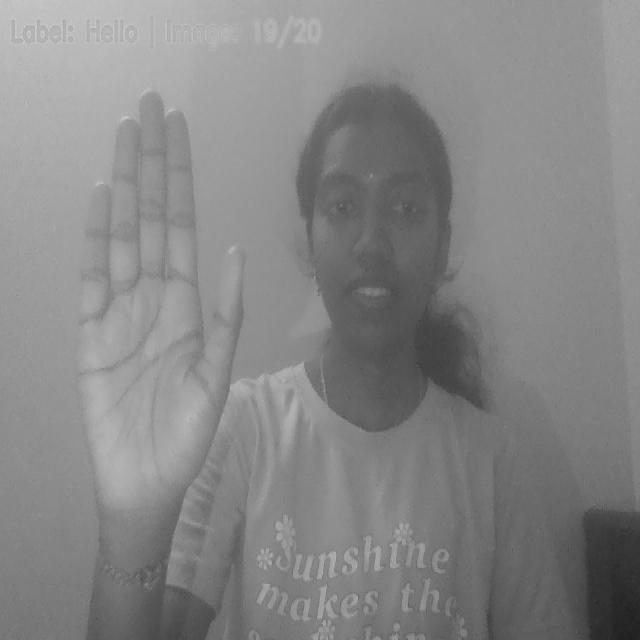Hello: (63, 86, 248, 538)
